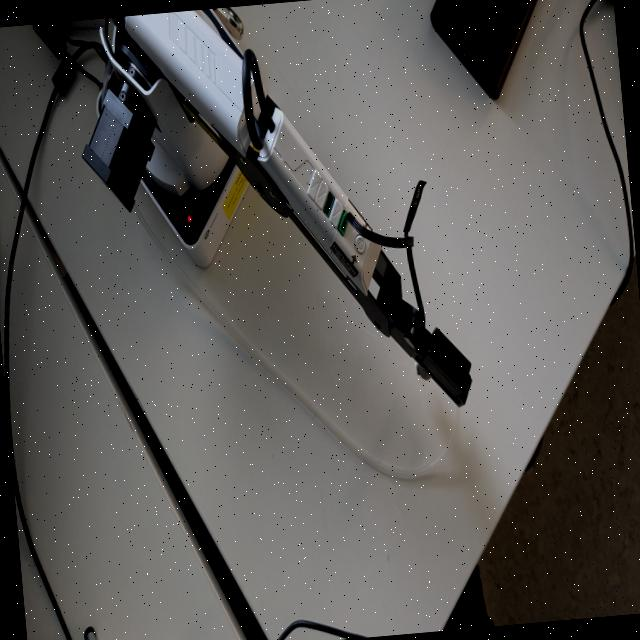Robot-end-effector-HF8z: (406, 321, 479, 413)
